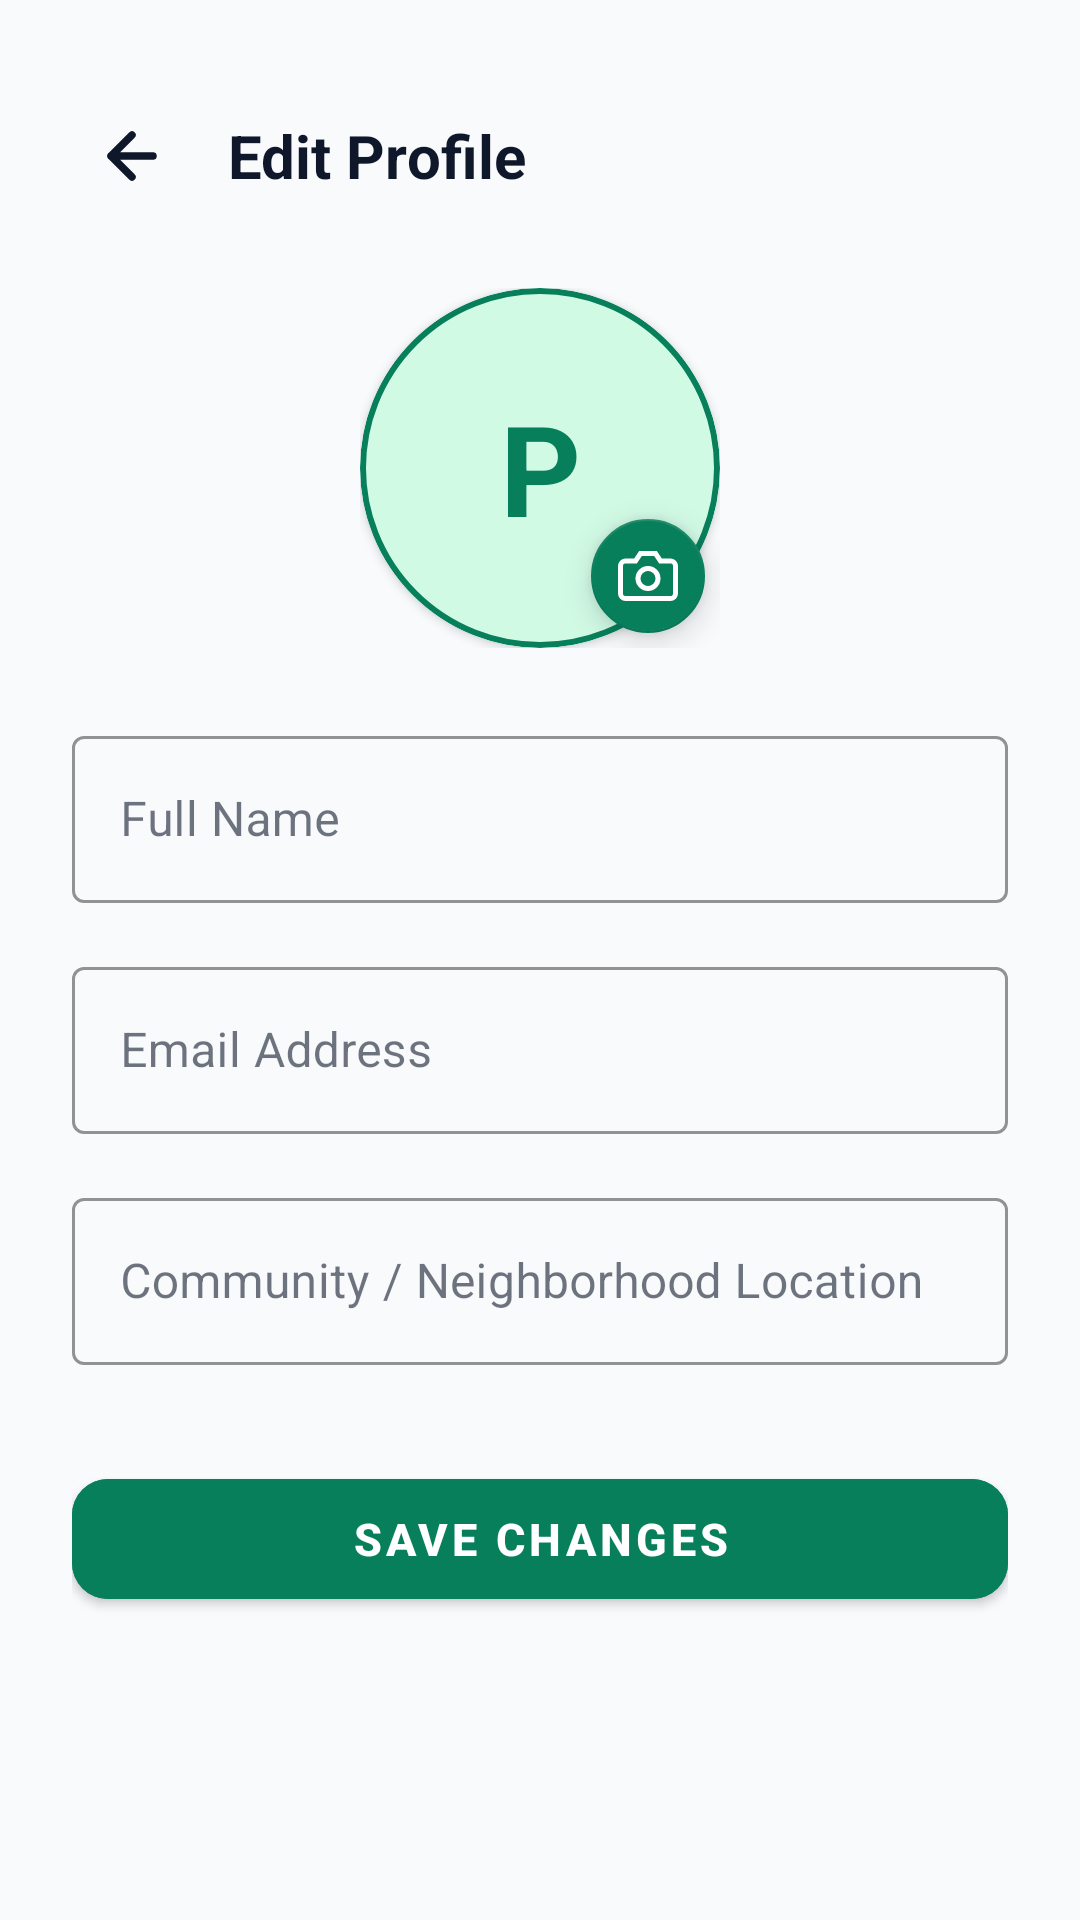

Icon click points for this 1080×1920 phone screenshot, format [x,y]:
Back: [132,156]
Change Photo: [648,576]
